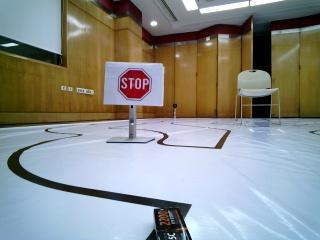stop: (103, 61, 162, 106)
